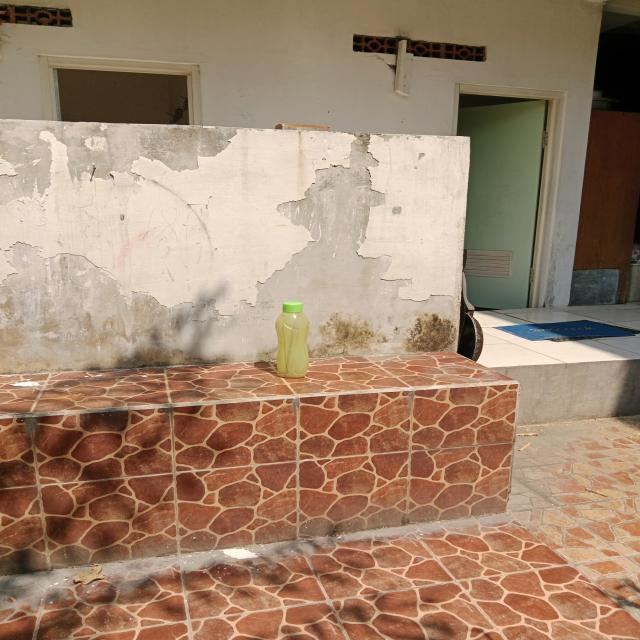botol_minum: (264, 292, 320, 381)
